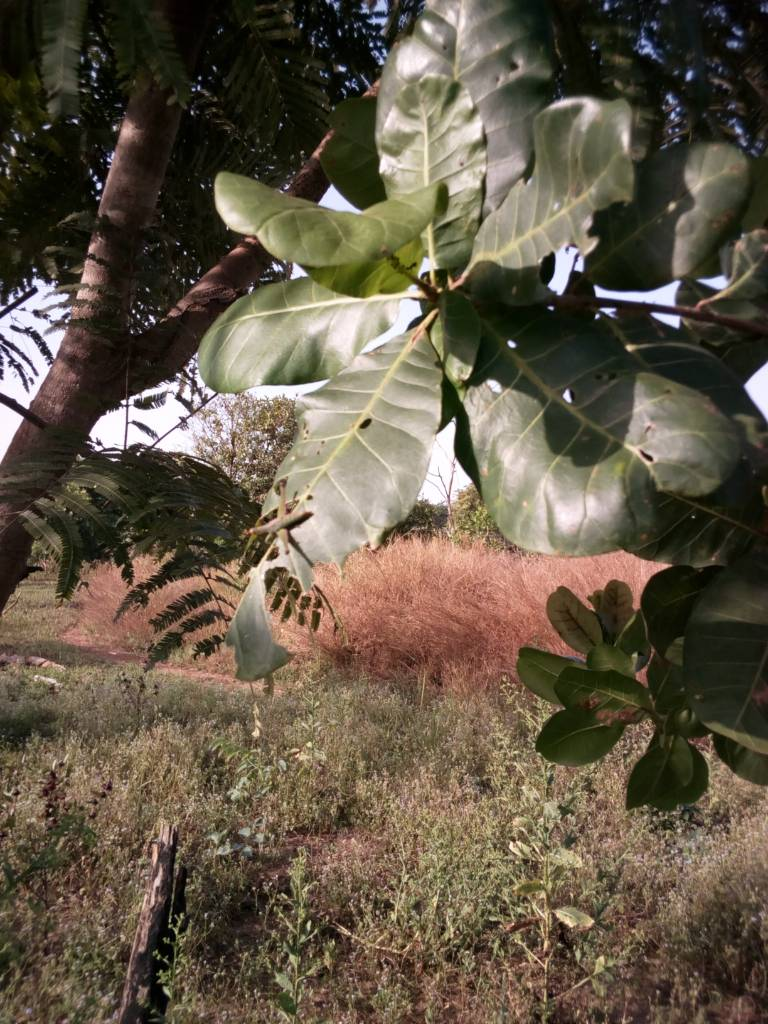Helopeltis anacardii: (472, 97, 633, 269)
